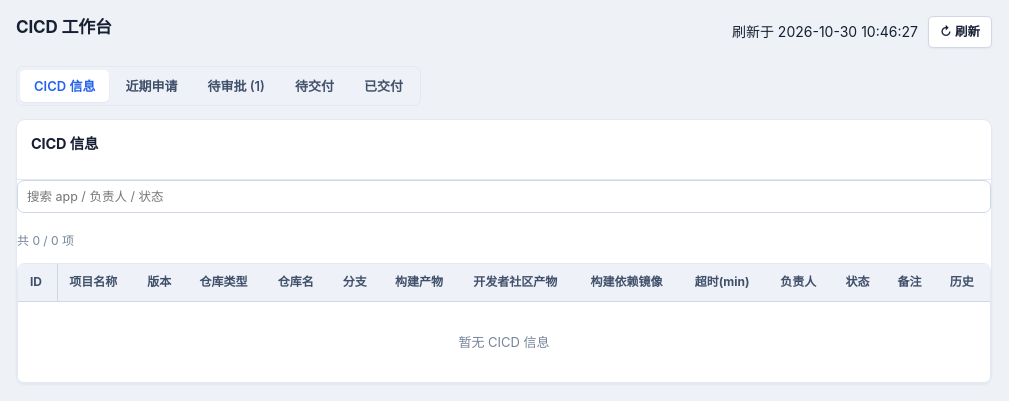
Test case: CicdPage › PendingPane: renders pending request with submitter name
Click the button "待审批 (1)". click: (236, 86)
box: x1=193 y1=70 x2=279 y2=102
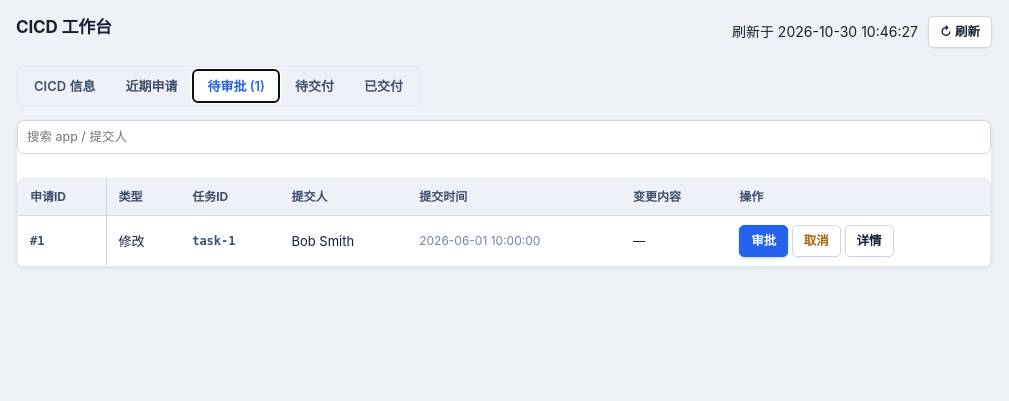
Now the text "Bob Smith" is shown, box x1=279 y1=216 x2=407 y2=266
